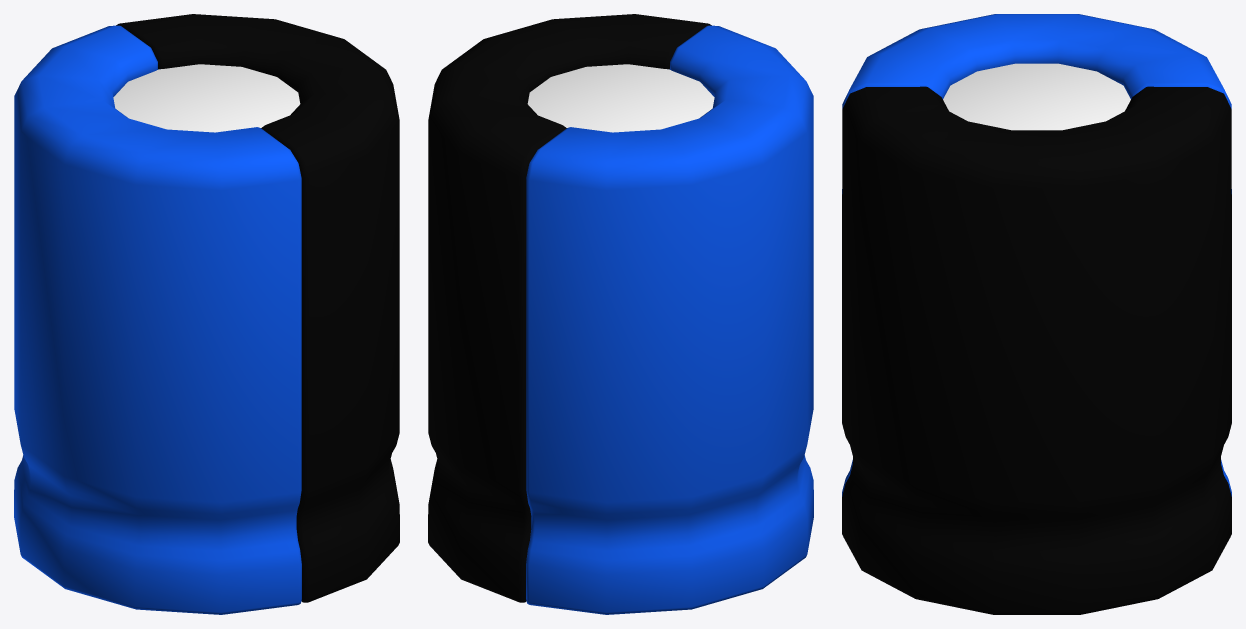
File: LevelRework_Resistor1Baked.fbx
The picture shows the model from 3 angles, left to right: view 1: azimuth 30°, elevation 25°; view 2: azimuth 150°, elevation 25°; view 3: azimuth 270°, elevation 25°; orthographic projection.
Parts seen in each view (by area): view 1: Resistor1Baked; view 2: Resistor1Baked; view 3: Resistor1Baked.
Part boxes in pixels (box(x1,y1,x2,y2)): Resistor1Baked: box(14, 14, 399, 614); Resistor1Baked: box(428, 14, 813, 614); Resistor1Baked: box(842, 14, 1231, 614).
Size of the model in its own units: 106 by 139 by 108.
